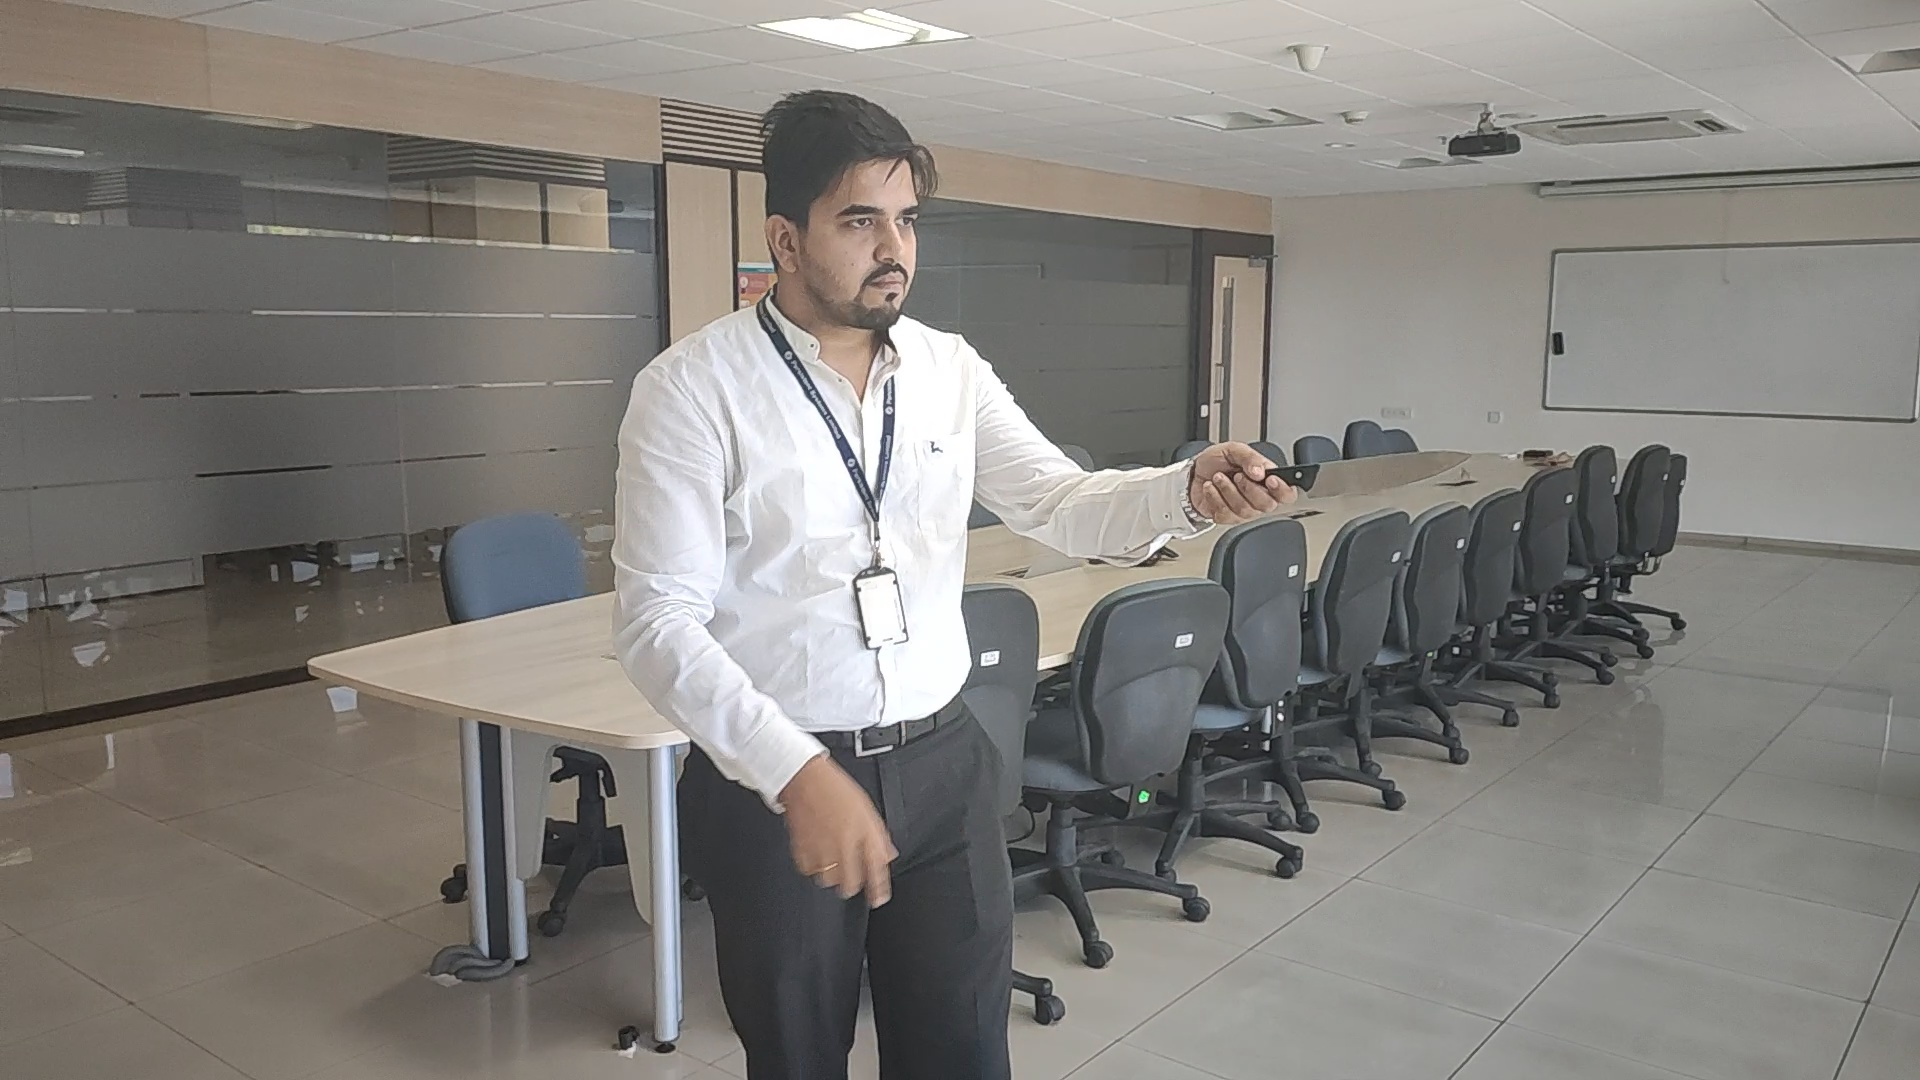knife: (1298, 450, 1473, 500)
